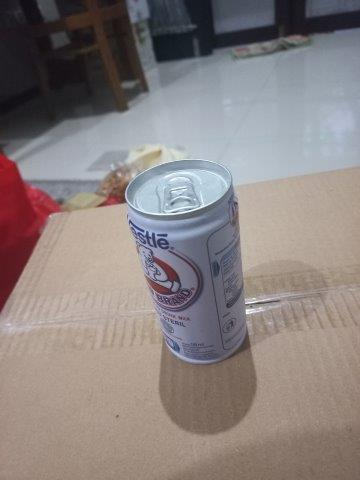kaleng: (126, 159, 247, 363)
kardus: (1, 165, 360, 480)
